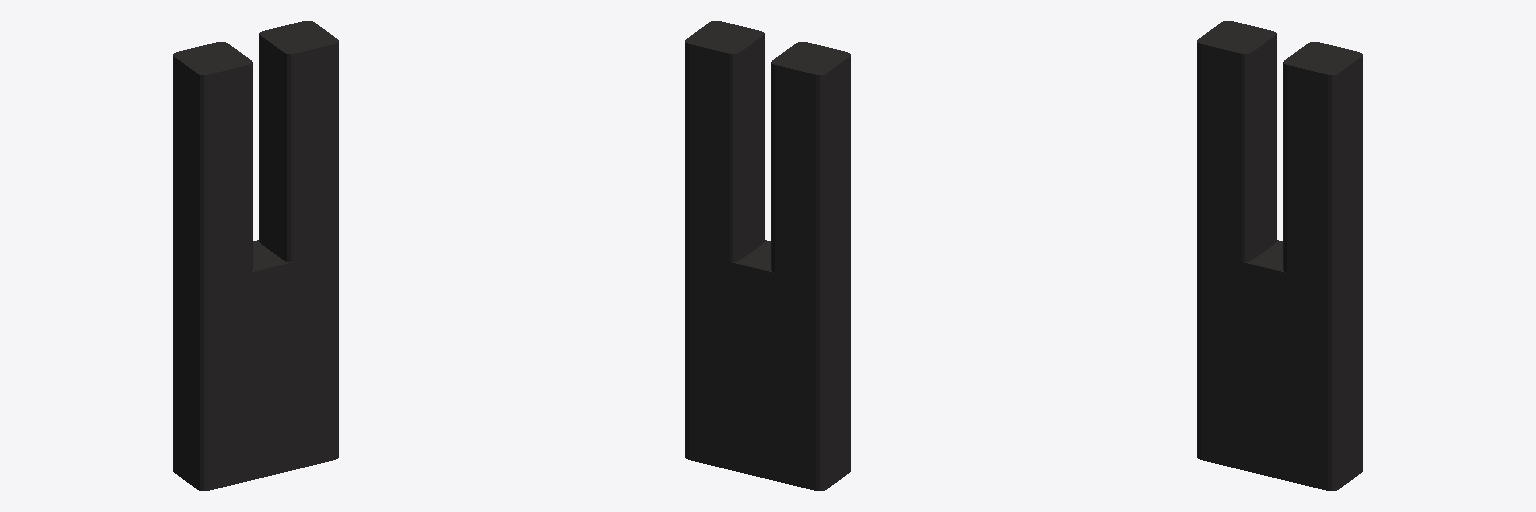
robot.urdf — Medium_Long_DoubleSquare_Yellow:
<?xml version="1.0"?>
<robot name="Medium_Long_DoubleSquare_Yellow">
    <link name="Medium_Long_DoubleSquare_Yellow">
        <visual>
            <geometry>
                <mesh filename="../mesh/factory_insertion/Medium_Long_DoubleSquare_Yellow.obj" scale="0.001 0.001 0.001"/>
            </geometry>
            <material name="Yellow">
              <color rgba="0.22 0.21 0.21 0.0"/>
            </material>
        </visual>
        <collision>
            <geometry>
                <mesh filename="../mesh/factory_insertion/Medium_Long_DoubleSquare_Yellow.obj" scale="0.001 0.001 0.001"/>
            </geometry>
            <sdf resolution="512"/>
        </collision>
    </link>
</robot>

--- What the picture shows (computed from the rendered views, not written in the file) ---
The picture shows the robot from 3 angles, left to right: view 1: azimuth 30°, elevation 25°; view 2: azimuth 150°, elevation 25°; view 3: azimuth 330°, elevation 25°; orthographic projection.
Robot: Medium_Long_DoubleSquare_Yellow — 1 links, 0 joints (none); root link Medium_Long_DoubleSquare_Yellow; default pose: all joints at 0.
Visible links, largest first — view 1: Medium_Long_DoubleSquare_Yellow; view 2: Medium_Long_DoubleSquare_Yellow; view 3: Medium_Long_DoubleSquare_Yellow.
Link boxes in pixels (x1,y1,x2,y2): Medium_Long_DoubleSquare_Yellow: [173, 21, 338, 490]; Medium_Long_DoubleSquare_Yellow: [685, 21, 850, 490]; Medium_Long_DoubleSquare_Yellow: [1197, 21, 1362, 490].
Size in the robot's own frame: 0.053 by 0.0204 by 0.15 metres.
Meshes: 1 distinct files referenced, 1 mesh visuals loaded (1 OBJ).
